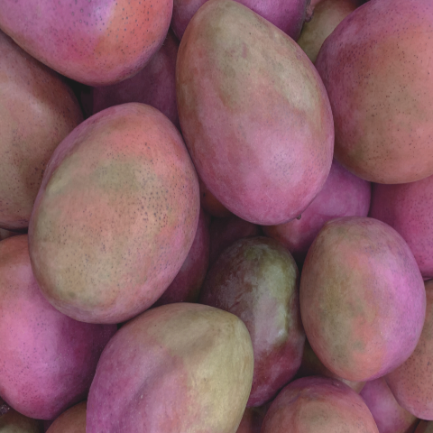mango: (142, 2, 371, 248), (17, 100, 206, 331), (88, 297, 272, 433), (293, 211, 425, 374)
